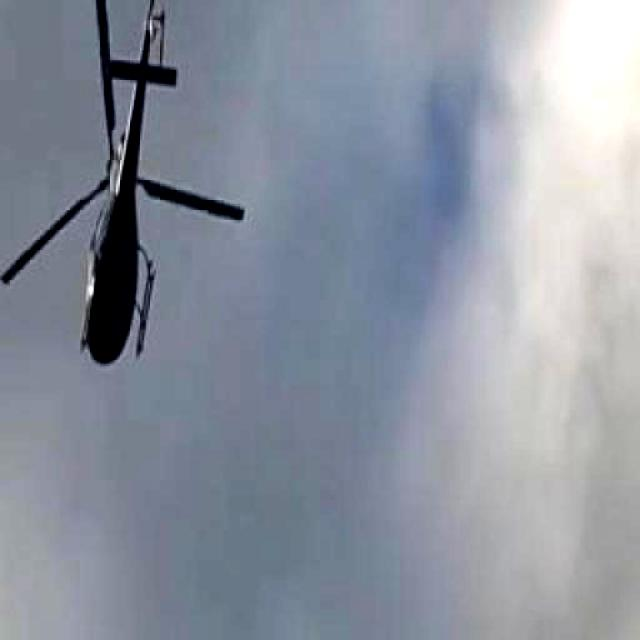drone: (0, 0, 252, 394)
